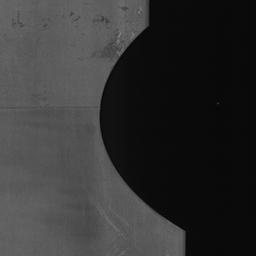Crescent gap: (100, 26, 184, 230)
